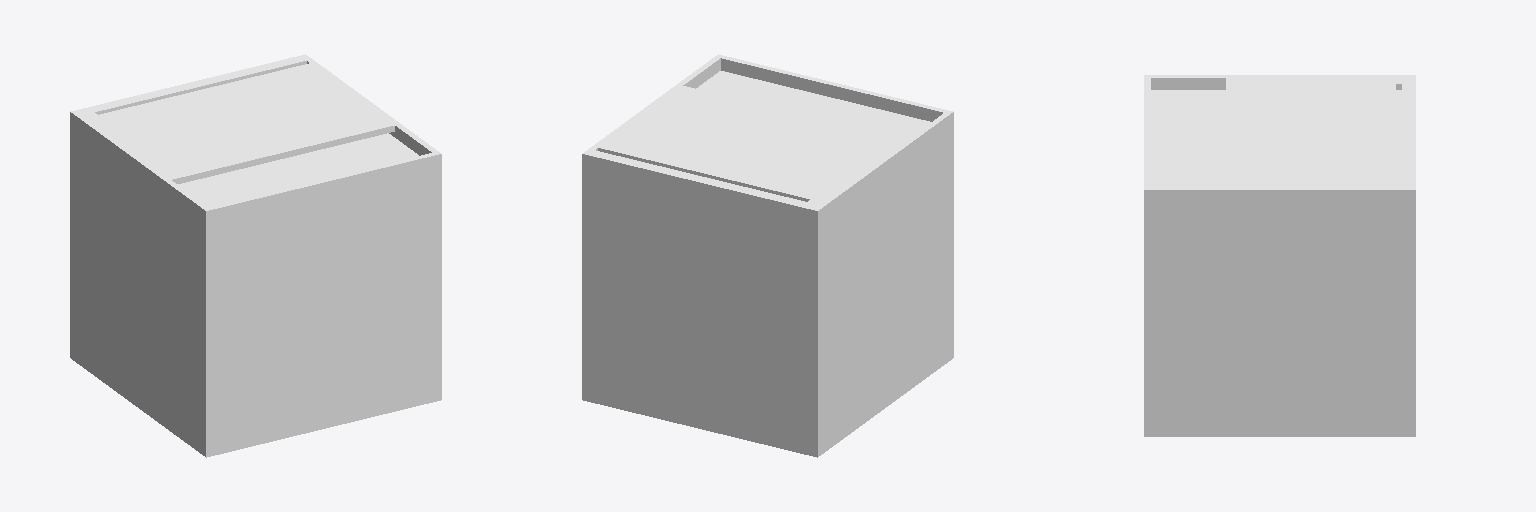
Rendered from TransparencyTest.obj.
3 renders of one model, left to right at view 1: azimuth 30°, elevation 25°; view 2: azimuth 150°, elevation 25°; view 3: azimuth 270°, elevation 25°, orthographic.
Bounding box in the file's own units: 40 × 40 × 40.